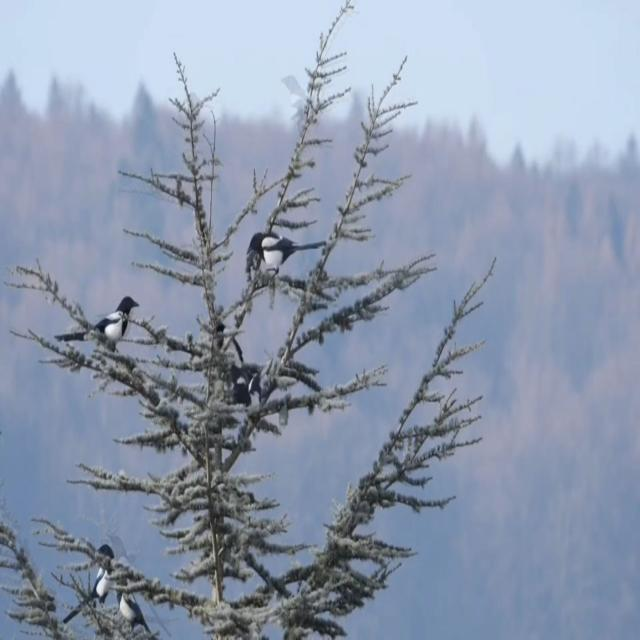bird: (50, 282, 149, 390), (236, 210, 336, 316), (207, 310, 279, 422), (59, 532, 119, 633), (109, 563, 155, 640)
